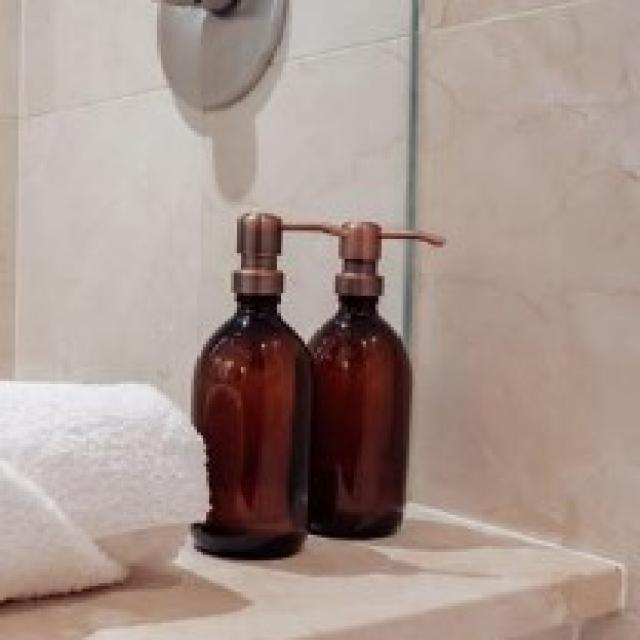electronic: (186, 215, 452, 564)
